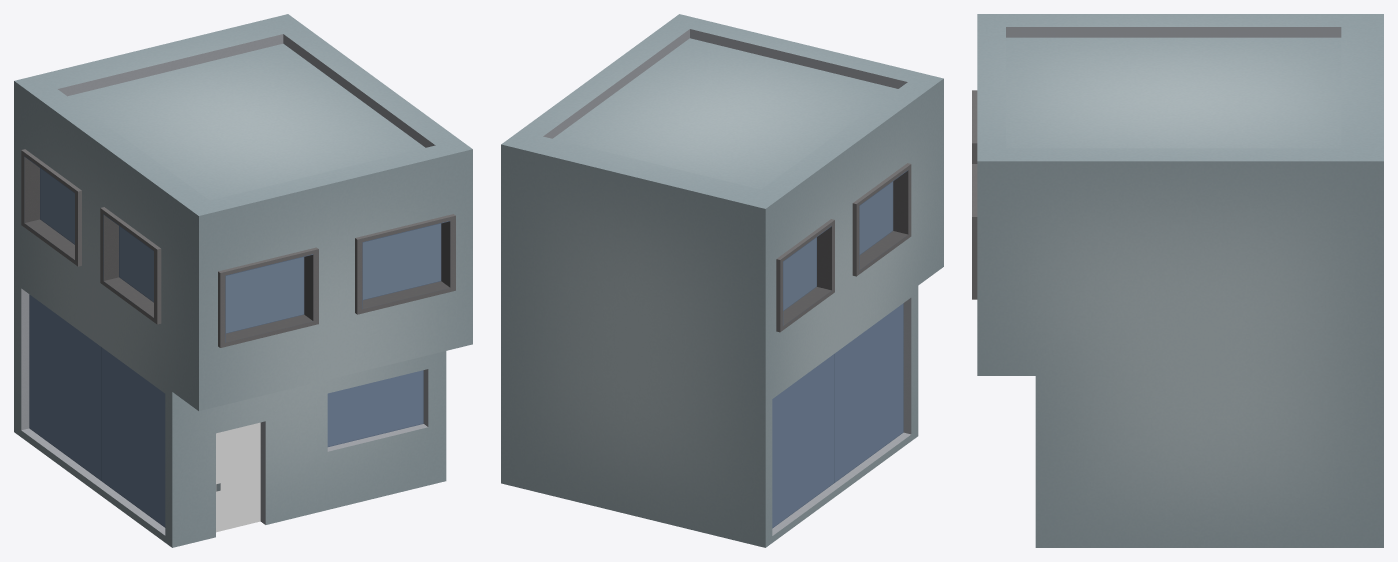
File: House_05_UV_Color.fbx
The picture shows the model from 3 angles, left to right: view 1: azimuth 30°, elevation 25°; view 2: azimuth 150°, elevation 25°; view 3: azimuth 270°, elevation 25°; orthographic projection. The views are drawn at different scales.
Parts seen in each view (by area): view 1: House_05_UV_Color; view 2: House_05_UV_Color; view 3: House_05_UV_Color.
Boxes of the visible parts, x1,y1,x2,y2 form: House_05_UV_Color: [14, 14, 472, 547]; House_05_UV_Color: [501, 14, 943, 547]; House_05_UV_Color: [972, 14, 1383, 547].
Bounding box in the file's own units: 1119 × 1352 × 1304.
